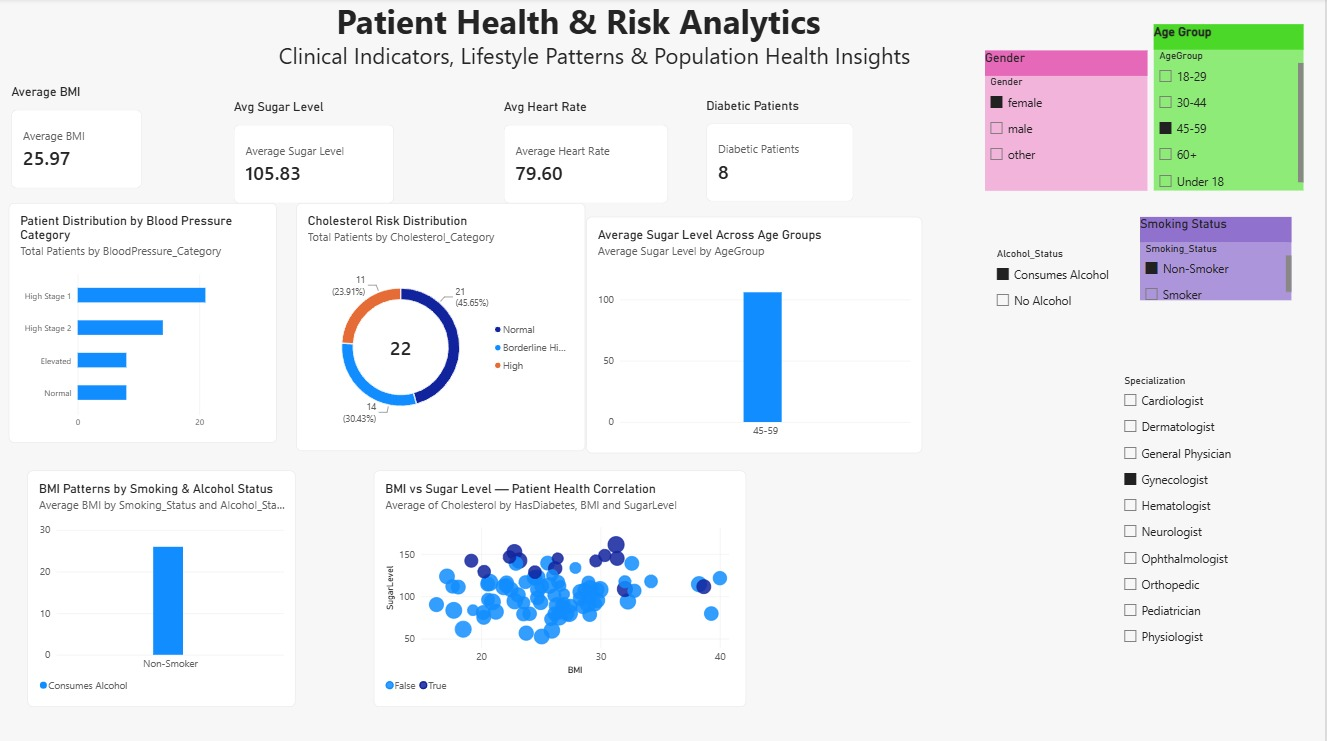

What the dashboard file says about the page in this screenshot:
{"tool":"powerbi","page":{"name":"Patient Health & Risk Analytics","canvas":[1920,1080],"ordinal":1},"visuals":[{"type":"textbox","box":[487.6,0,724.4,75.6],"z":0},{"type":"textbox","box":[404,61.7,929.4,63.7],"z":1000},{"type":"cardVisual","title":"Average BMI","fields":{"Data":["_Measures.Average BMI"]},"box":[15.5,125.4,189.1,151.2],"z":2000},{"type":"cardVisual","title":"Avg Sugar Level","fields":{"Data":["_Measures.Average Sugar Level"]},"box":[339,145.8,232.8,151.2],"z":3000},{"type":"cardVisual","title":"Avg Heart Rate","fields":{"Data":["_Measures.Average Heart Rate"]},"box":[728.8,145.8,238.8,151.2],"z":4000},{"type":"cardVisual","title":"Diabetic Patients","fields":{"Data":["_Measures.Diabetic Patients"]},"box":[1022.8,145.6,213.5,150.2],"z":5000},{"type":"clusteredBarChart","title":"Patient Distribution by Blood Pressure Category","fields":{"Category":["Patient Health Analytics.BloodPressure_Category"],"Y":["_Measures.Total Patients"]},"box":[13.6,296.6,388.1,347.5],"z":6000},{"type":"donutChart","title":"Cholesterol Risk Distribution","fields":{"Category":["Patient Health Analytics.Cholesterol_Category"],"Y":["_Measures.Total Patients"]},"box":[428.8,296.6,418.6,359.3],"z":7000},{"type":"lineClusteredColumnComboChart","title":"Average Sugar Level Across Age Groups","fields":{"Category":["Patient Health Analytics.AgeGroup"],"Y":["_Measures.Average Sugar Level"]},"box":[849.1,315.8,486.4,342.4],"z":7001},{"type":"clusteredColumnChart","title":"BMI Patterns by Smoking & Alcohol Status","fields":{"Category":["Patient Health Analytics.Smoking_Status"],"Series":["Patient Health Analytics.Alcohol_Status"],"Y":["_Measures.Average BMI"]},"box":[40.7,684.7,388,342],"z":7002},{"type":"scatterChart","title":"BMI vs Sugar Level — Patient Health Correlation","fields":{"Series":["Patient Health Analytics.HasDiabetes"],"Size":["Avg(Patient Health Analytics.Cholesterol)"],"X":["Patient Health Analytics.BMI"],"Y":["Patient Health Analytics.SugarLevel"]},"box":[1212.3,700,539,342.4],"z":7003},{"type":"slicer","title":"Gender","fields":{"Values":["Patient Health Analytics.Gender"]},"box":[1435.1,0,234.8,203],"z":7005},{"type":"slicer","title":"Age Group","fields":{"Values":["Patient Health Analytics.AgeGroup"]},"box":[1670.2,0,216.9,240.8],"z":7006},{"type":"slicer","title":"Smoking Status","fields":{"Values":["Patient Health Analytics.Smoking_Status"]},"box":[1650.9,261.4,219.3,121.1],"z":7007},{"type":"slicer","fields":{"Values":["Patient Health Analytics.Alcohol_Status"]},"box":[1435.1,261.4,215.8,107],"z":7008},{"type":"slicer","fields":{"Values":["Patient Health Analytics.Specialization"]},"box":[1254.4,219.3,249.1,480.7],"z":7009}]}

Visuals, with their boxes in screenshot pixels (x1, y1, x2, y2), scaled from the page's 1920x1080 canvas onto the 1327x741 screenshot:
textbox: [337, 0, 838, 52]
textbox: [279, 42, 922, 86]
"Average BMI" cardVisual: [11, 86, 141, 190]
"Avg Sugar Level" cardVisual: [234, 100, 395, 204]
"Avg Heart Rate" cardVisual: [504, 100, 669, 204]
"Diabetic Patients" cardVisual: [707, 100, 854, 203]
"Patient Distribution by Blood Pressure Category" clusteredBarChart: [9, 204, 278, 442]
"Cholesterol Risk Distribution" donutChart: [296, 204, 586, 450]
"Average Sugar Level Across Age Groups" lineClusteredColumnComboChart: [587, 217, 923, 452]
"BMI Patterns by Smoking & Alcohol Status" clusteredColumnChart: [28, 470, 296, 704]
"BMI vs Sugar Level — Patient Health Correlation" scatterChart: [838, 480, 1210, 715]
"Gender" slicer: [992, 0, 1154, 139]
"Age Group" slicer: [1154, 0, 1304, 165]
"Smoking Status" slicer: [1141, 179, 1293, 262]
slicer - Patient Health Analytics.Alcohol_Status: [992, 179, 1141, 253]
slicer - Patient Health Analytics.Specialization: [867, 150, 1039, 480]
